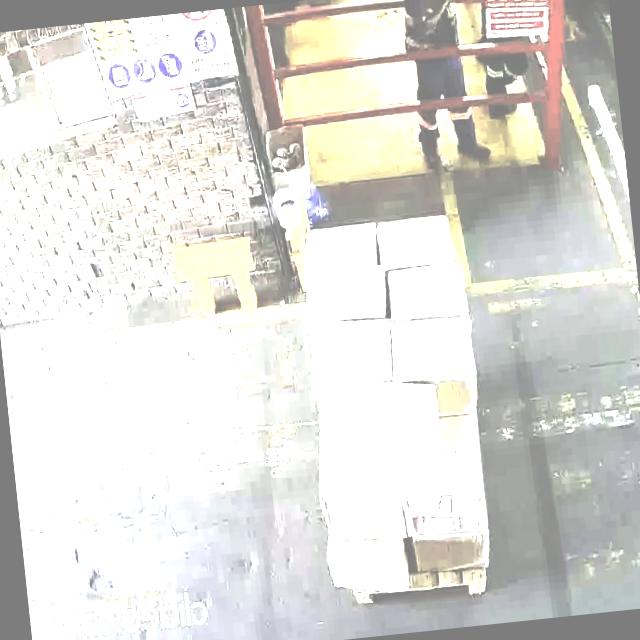Box: (338, 384, 452, 488), (304, 316, 394, 390), (391, 312, 476, 386), (404, 478, 488, 534), (320, 480, 404, 536), (384, 264, 468, 320), (380, 212, 456, 272), (306, 267, 388, 322), (301, 219, 381, 273), (330, 539, 406, 591), (411, 530, 492, 572)
